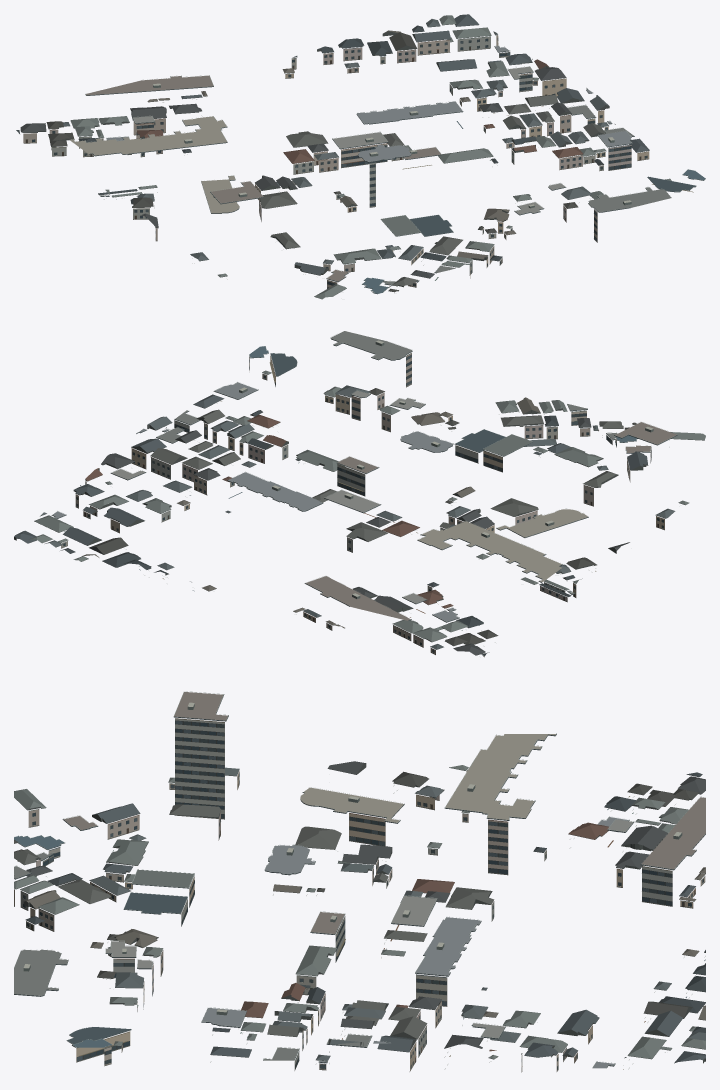
3 views of the same model, one above another, from view 1: azimuth 30°, elevation 25°; view 2: azimuth 150°, elevation 25°; view 3: azimuth 270°, elevation 25° (orthographic). The views are drawn at different scales.
Visible parts, largest first — view 1: r4-c6; view 2: r4-c6; view 3: r4-c6.
Part boxes in pixels (x1=…): r4-c6: x1=16, y1=14, x2=705, y2=299; r4-c6: x1=14, y1=331, x2=705, y2=657; r4-c6: x1=14, y1=691, x2=705, y2=1072.
Bounding box in the file's own units: 250 × 42.45 × 250.
